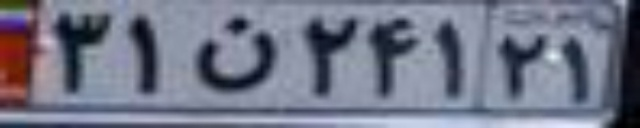1: (124, 12, 166, 94), (430, 16, 462, 99), (559, 33, 594, 103)
2: (304, 14, 360, 95), (495, 32, 550, 98)
3: (51, 11, 112, 94)
4: (365, 15, 418, 96)
non: (190, 16, 278, 91)
